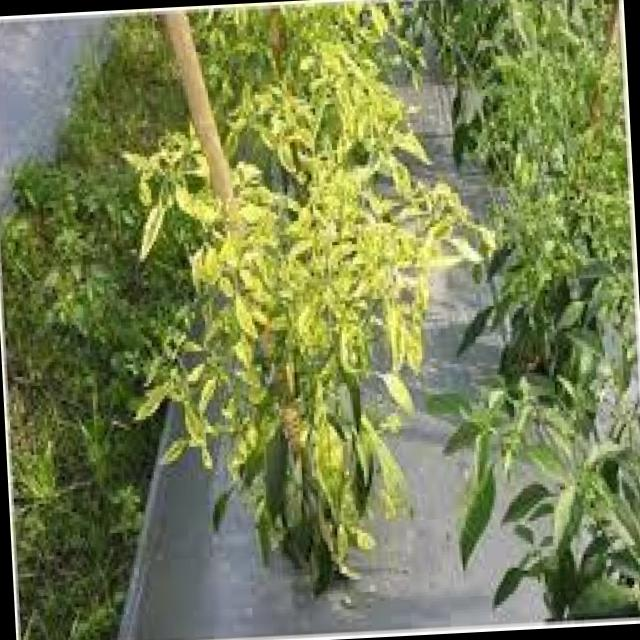Chilli_Leaf_Curl: (109, 21, 513, 600), (481, 397, 640, 621)
